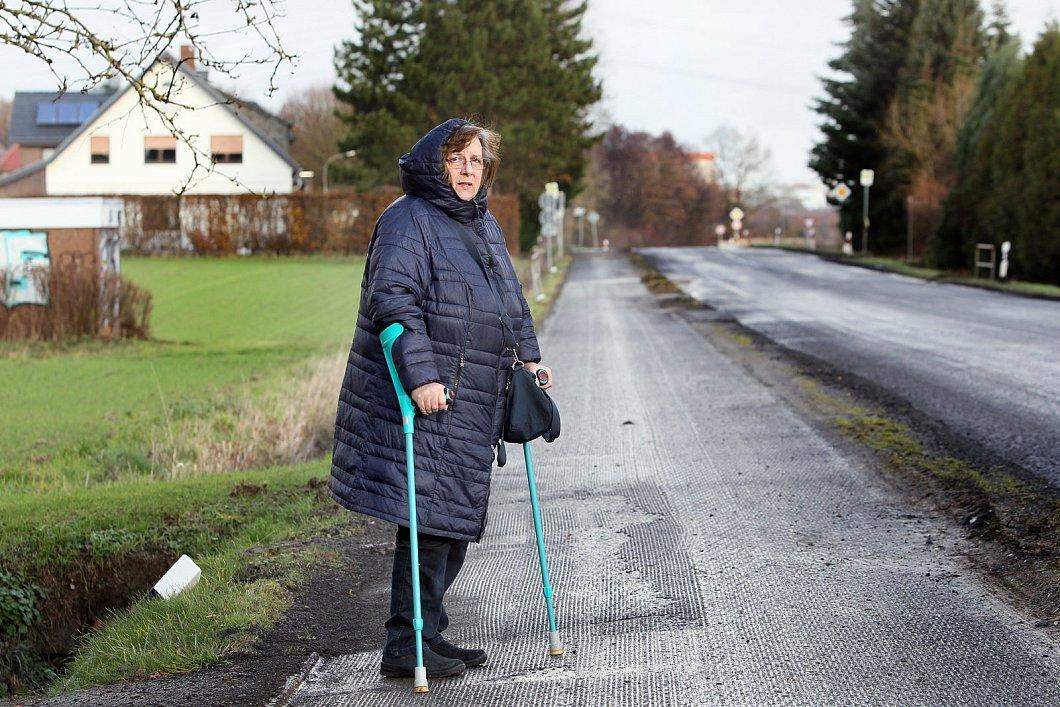crutches: (327, 117, 564, 692)
